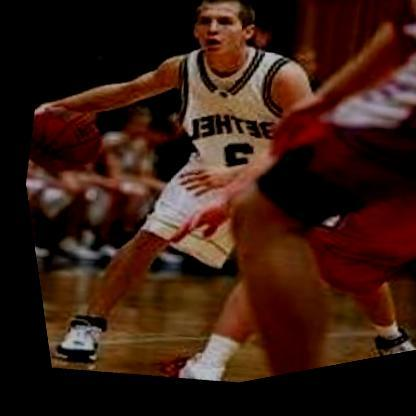basketball: (14, 89, 113, 189)
